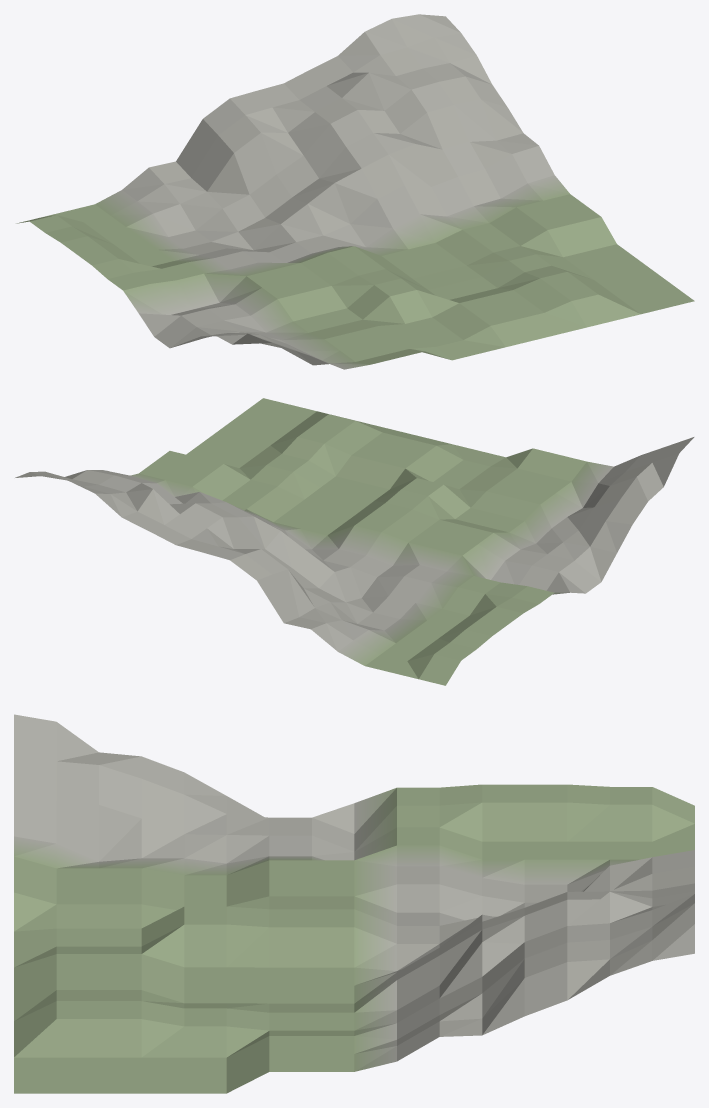
The picture shows the model from 3 angles, top to bottom: view 1: azimuth 30°, elevation 25°; view 2: azimuth 150°, elevation 25°; view 3: azimuth 270°, elevation 25°; orthographic projection. The views are drawn at different scales.
Bounding box in the file's own units: 32 × 8.74 × 32.
